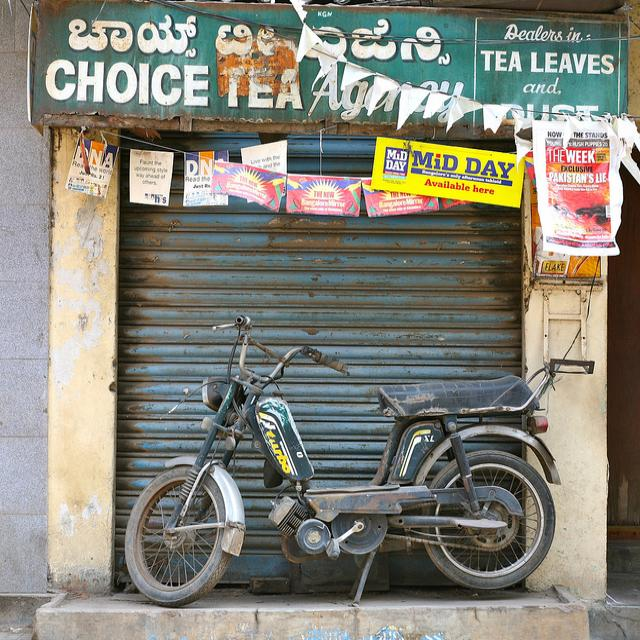motor: (120, 311, 560, 608)
